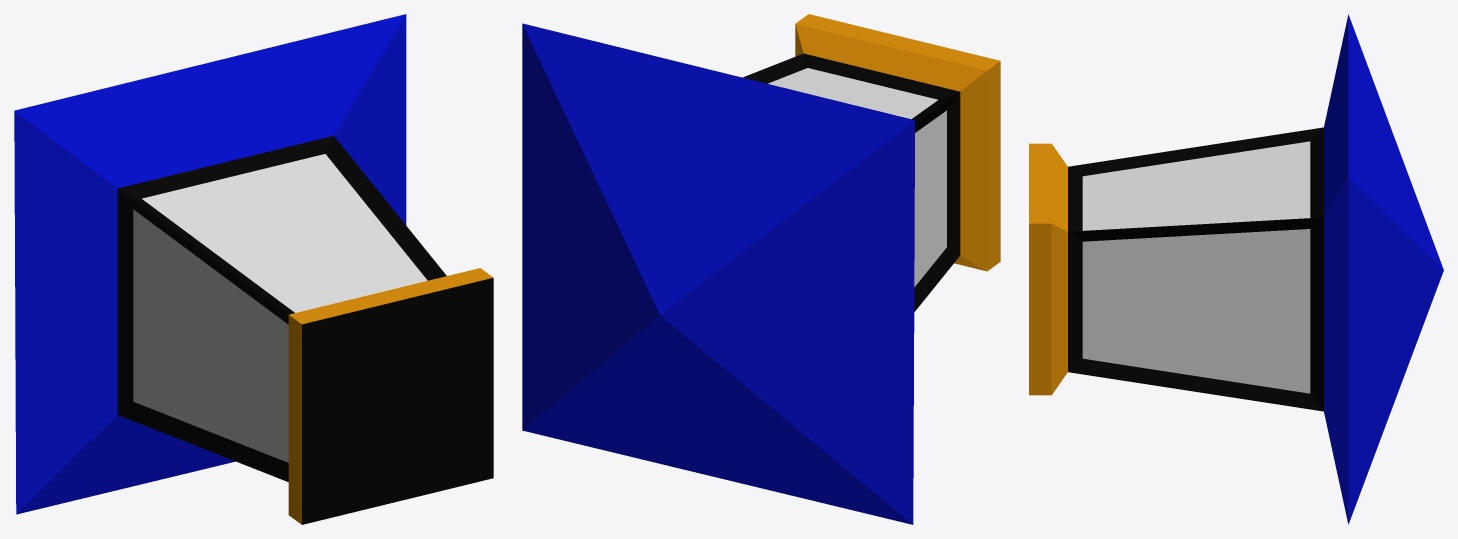
File: Lamp.fbx
3 views of the same model, side by side, from view 1: azimuth 30°, elevation 25°; view 2: azimuth 150°, elevation 25°; view 3: azimuth 270°, elevation 25° (orthographic). The views are drawn at different scales.
Visible parts, largest first — view 1: Lamp; view 2: Lamp; view 3: Lamp.
Part boxes in pixels (left/top/right/bottom): Lamp: left=14, top=14, right=493, bottom=524; Lamp: left=522, top=14, right=1000, bottom=524; Lamp: left=1029, top=14, right=1443, bottom=524.
Bounding box in the file's own units: 136 × 134 × 145.
